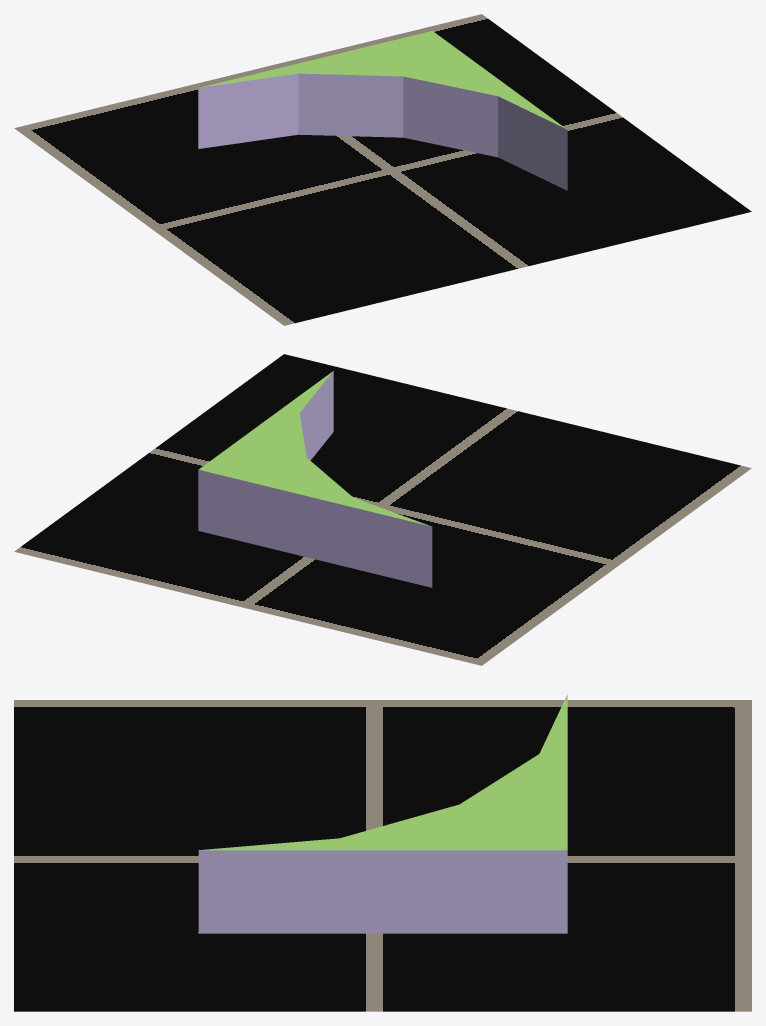
The model's file is Tiered_Grass_Curve_Inner_1x1.glb.
3 renders of one model, top to bottom at view 1: azimuth 30°, elevation 25°; view 2: azimuth 150°, elevation 25°; view 3: azimuth 270°, elevation 25°, orthographic. The views are drawn at different scales.
Visible parts, largest first — view 1: Floor, Tiered_Grass_Curve_Inner_1x1; view 2: Floor, Tiered_Grass_Curve_Inner_1x1; view 3: Floor, Tiered_Grass_Curve_Inner_1x1.
Boxes of the visible parts, bbox=[...] form: Floor: bbox=[14, 14, 751, 325]; Tiered_Grass_Curve_Inner_1x1: bbox=[198, 31, 567, 190]; Floor: bbox=[14, 354, 751, 665]; Tiered_Grass_Curve_Inner_1x1: bbox=[198, 371, 432, 587]; Floor: bbox=[14, 700, 751, 1011]; Tiered_Grass_Curve_Inner_1x1: bbox=[198, 694, 567, 933].
Bounding box in the file's own units: 200 × 25 × 200.
4 materials, 1 textured.
